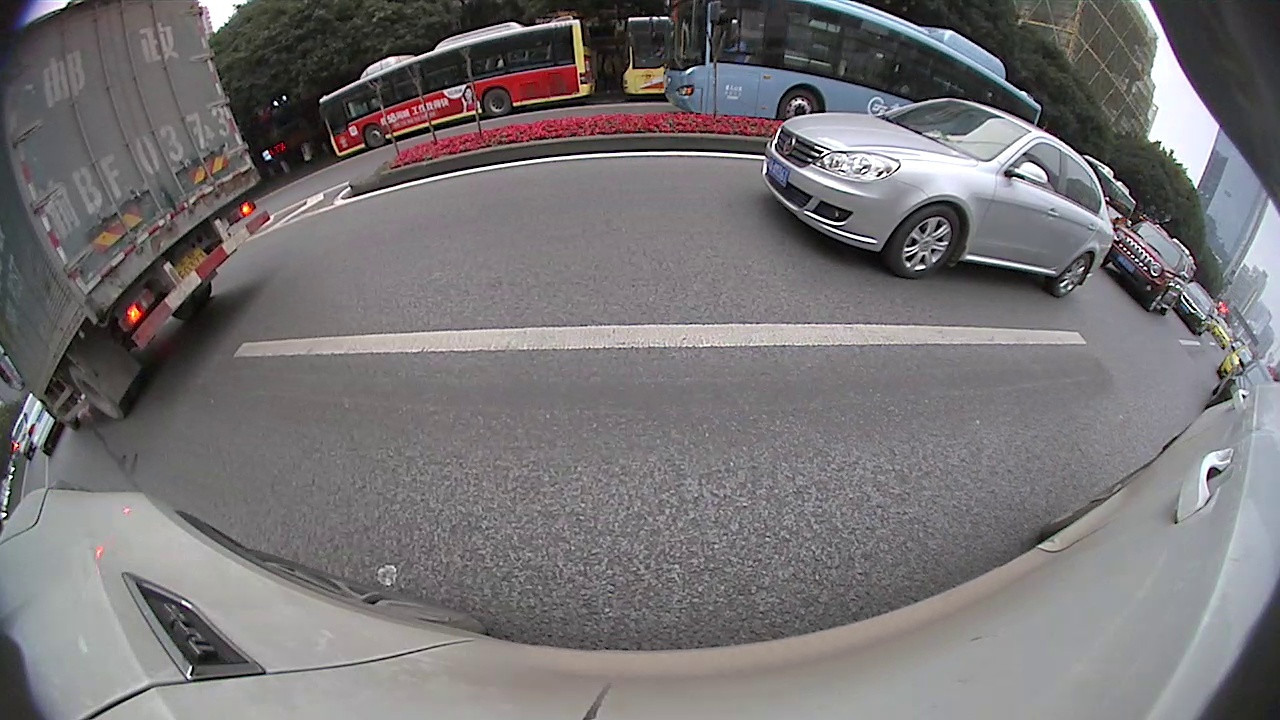bus: (661, 4, 1042, 129), (319, 17, 600, 162), (1079, 156, 1139, 229), (618, 19, 677, 93)
car: (763, 96, 1117, 296), (1109, 218, 1193, 313), (1177, 288, 1218, 336)
front: (888, 206, 964, 280), (778, 87, 824, 122), (361, 123, 388, 149)
rear: (68, 364, 125, 420), (1050, 250, 1096, 299), (483, 87, 511, 120)
truck: (2, 1, 263, 423)
